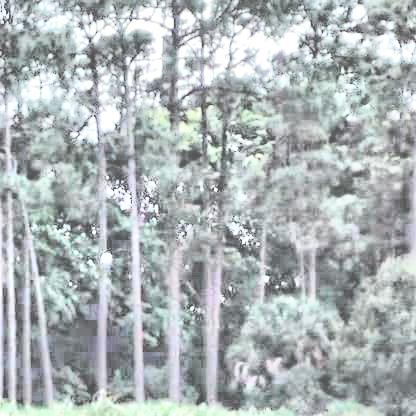golfball: (99, 251, 111, 263)
